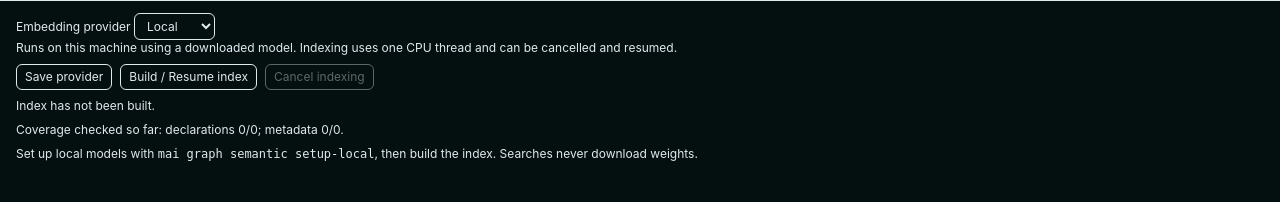
Test case: keeps failed mutations visible
The image size is (1280, 202).
Click the button "Build / Resume index".
click(189, 77)  # box [120,64,257,90]
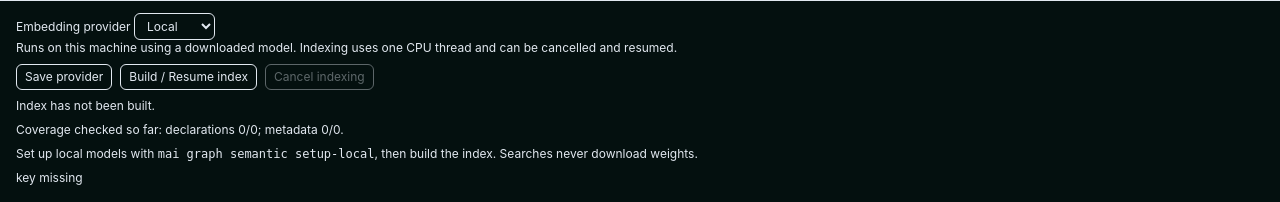
Check: the message "key missing" is shown, box [16,170,83,185]
